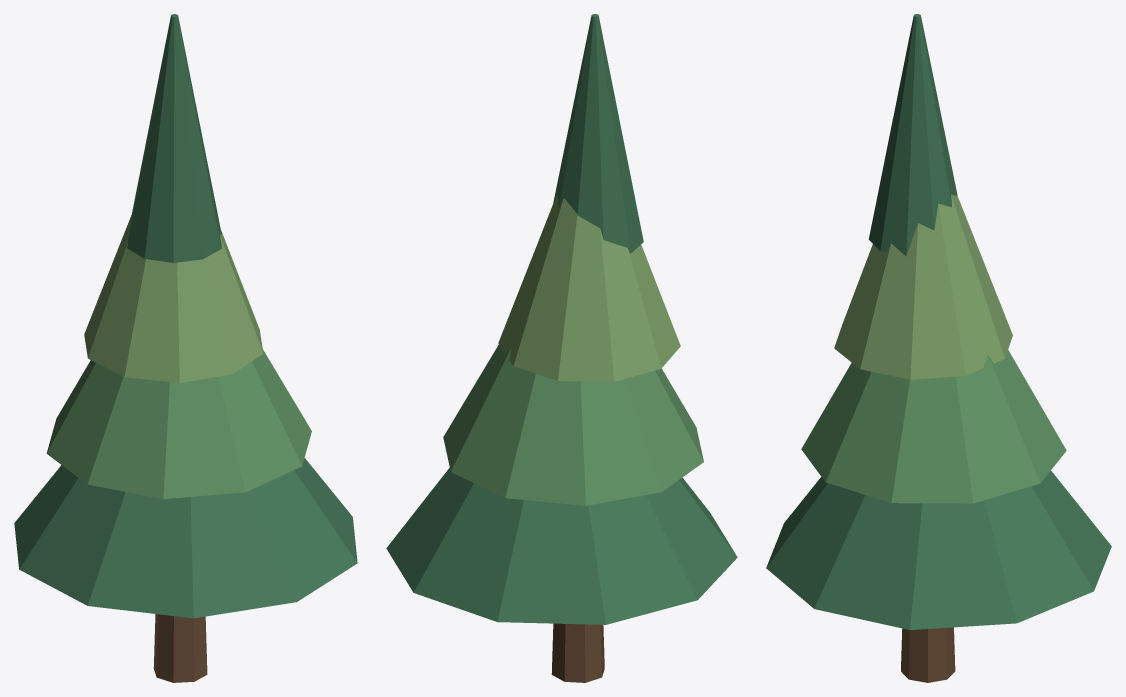
Rendered from pine_3.fbx.
The picture shows the model from 3 angles, left to right: view 1: azimuth 30°, elevation 25°; view 2: azimuth 150°, elevation 25°; view 3: azimuth 270°, elevation 25°; orthographic projection.
Visible parts, largest first — view 1: pine_3; view 2: pine_3; view 3: pine_3.
Part boxes in pixels (bbox=[...]): pine_3: bbox=[14, 14, 357, 682]; pine_3: bbox=[386, 14, 737, 682]; pine_3: bbox=[766, 14, 1111, 682].
Size of the model in its own units: 380 by 790 by 381.
